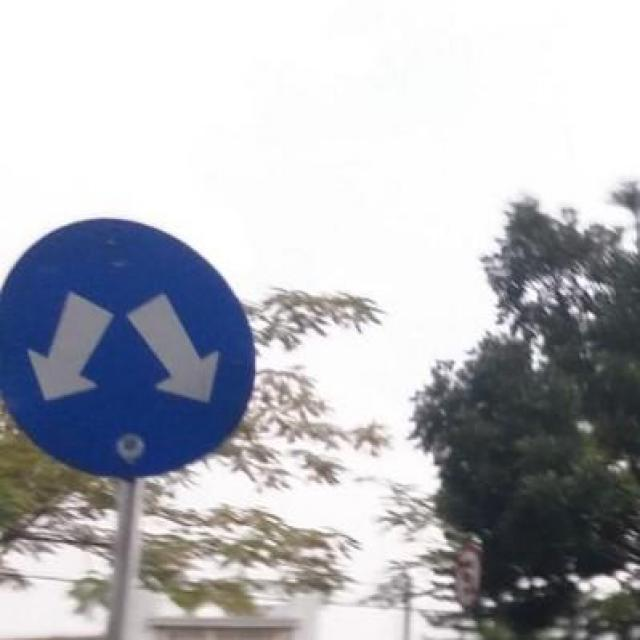traffic sign: (2, 219, 256, 479)
